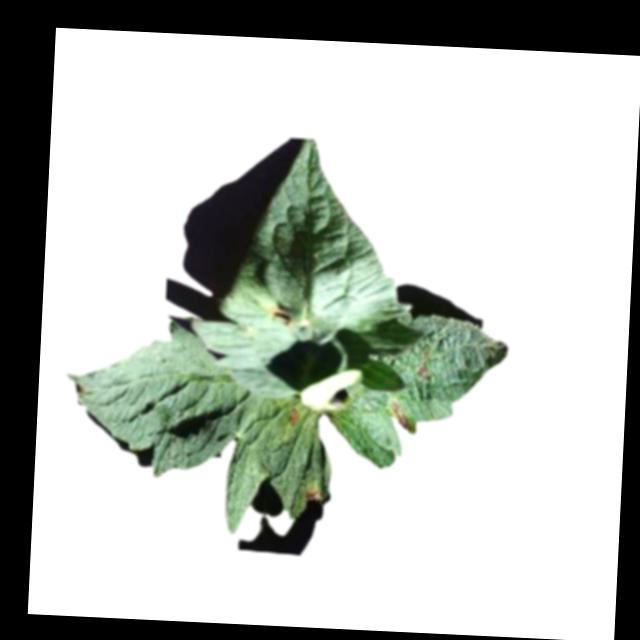Early_blight: (387, 400, 414, 430), (267, 303, 295, 326), (303, 485, 321, 504), (286, 407, 302, 427), (417, 364, 432, 379)
